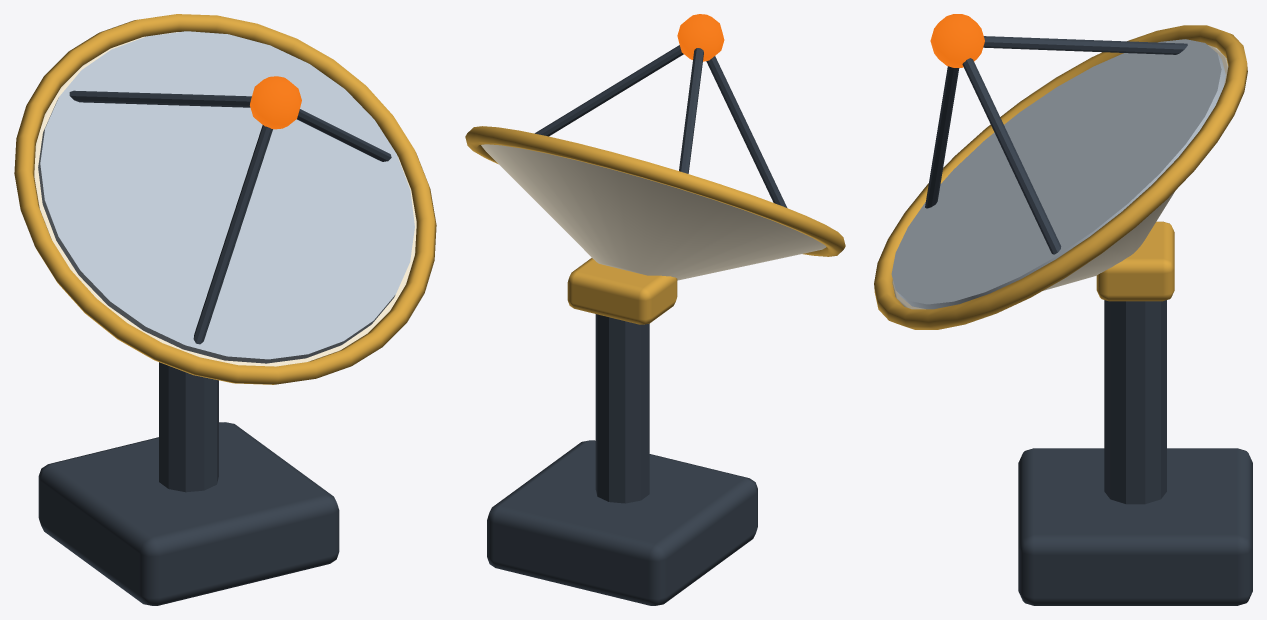
The model's file is dish_small.glb.
The picture shows the model from 3 angles, left to right: view 1: azimuth 30°, elevation 25°; view 2: azimuth 150°, elevation 25°; view 3: azimuth 270°, elevation 25°; orthographic projection. The views are drawn at different scales.
Parts seen in each view (by area): view 1: dish, dish_small_body; view 2: dish, dish_small_body; view 3: dish, dish_small_body.
Part boxes in pixels (x1,y1,x2,y2): dish: [14, 14, 436, 384]; dish_small_body: [38, 362, 339, 605]; dish: [465, 14, 845, 324]; dish_small_body: [487, 314, 757, 605]; dish: [874, 14, 1247, 329]; dish_small_body: [1018, 300, 1252, 605].
Bounding box in the file's own units: 1.15 × 1.54 × 0.9694.
